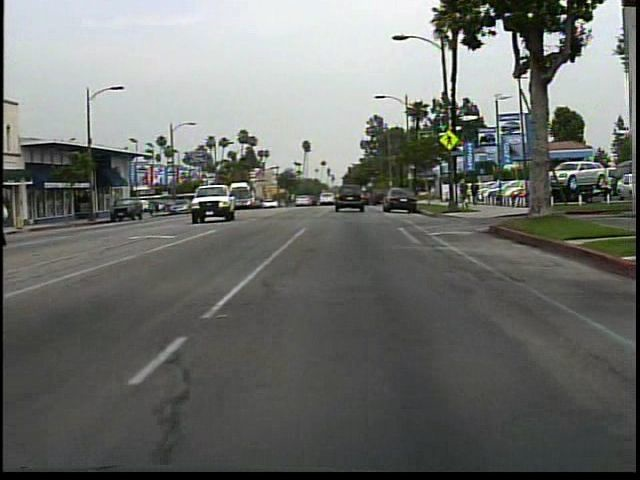person: (1, 194, 20, 246), (537, 176, 559, 219)
